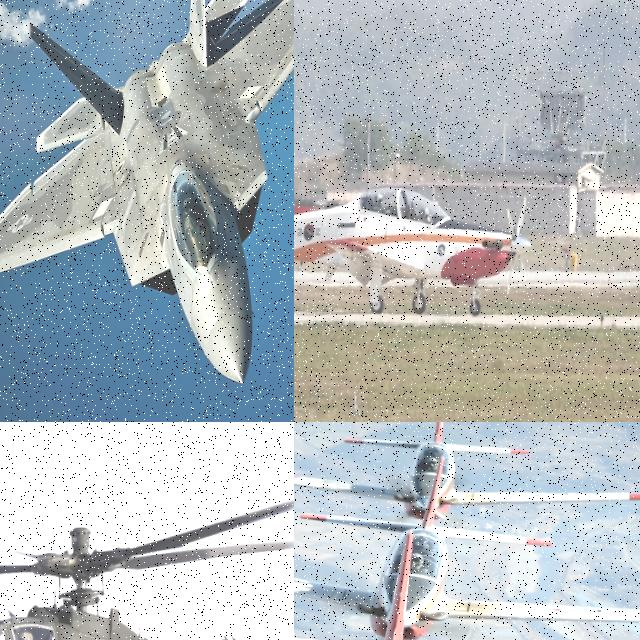Apache: (0, 452, 294, 640)
F22: (0, 0, 294, 391)
KT-1: (294, 456, 640, 640), (294, 135, 530, 312), (294, 522, 640, 640), (294, 422, 640, 522)
